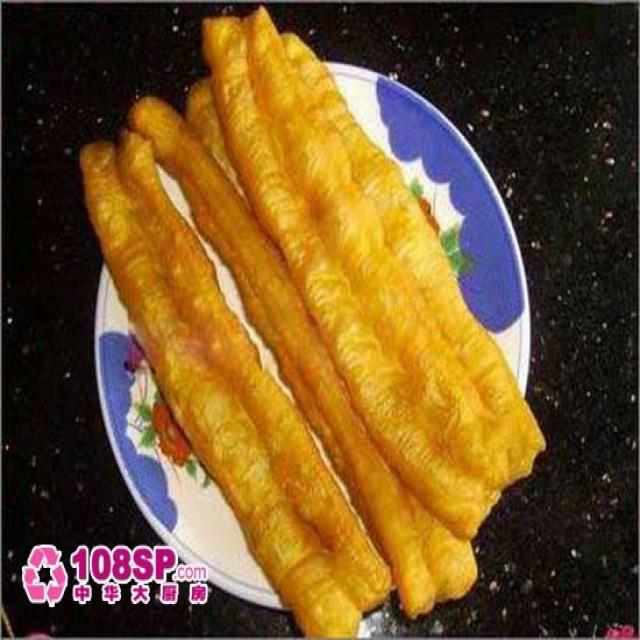炸货点心: (57, 20, 560, 623)
